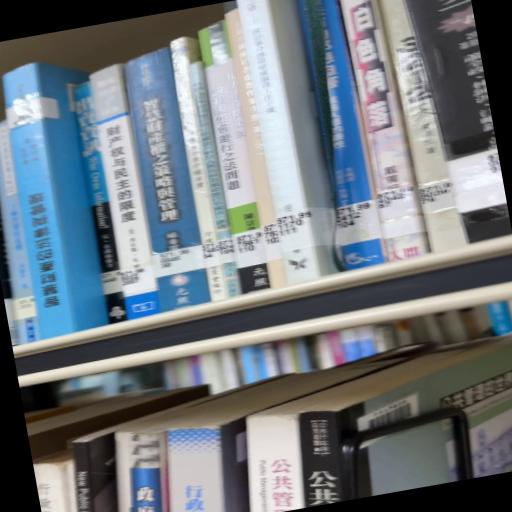reverse: (3, 63, 109, 340)
